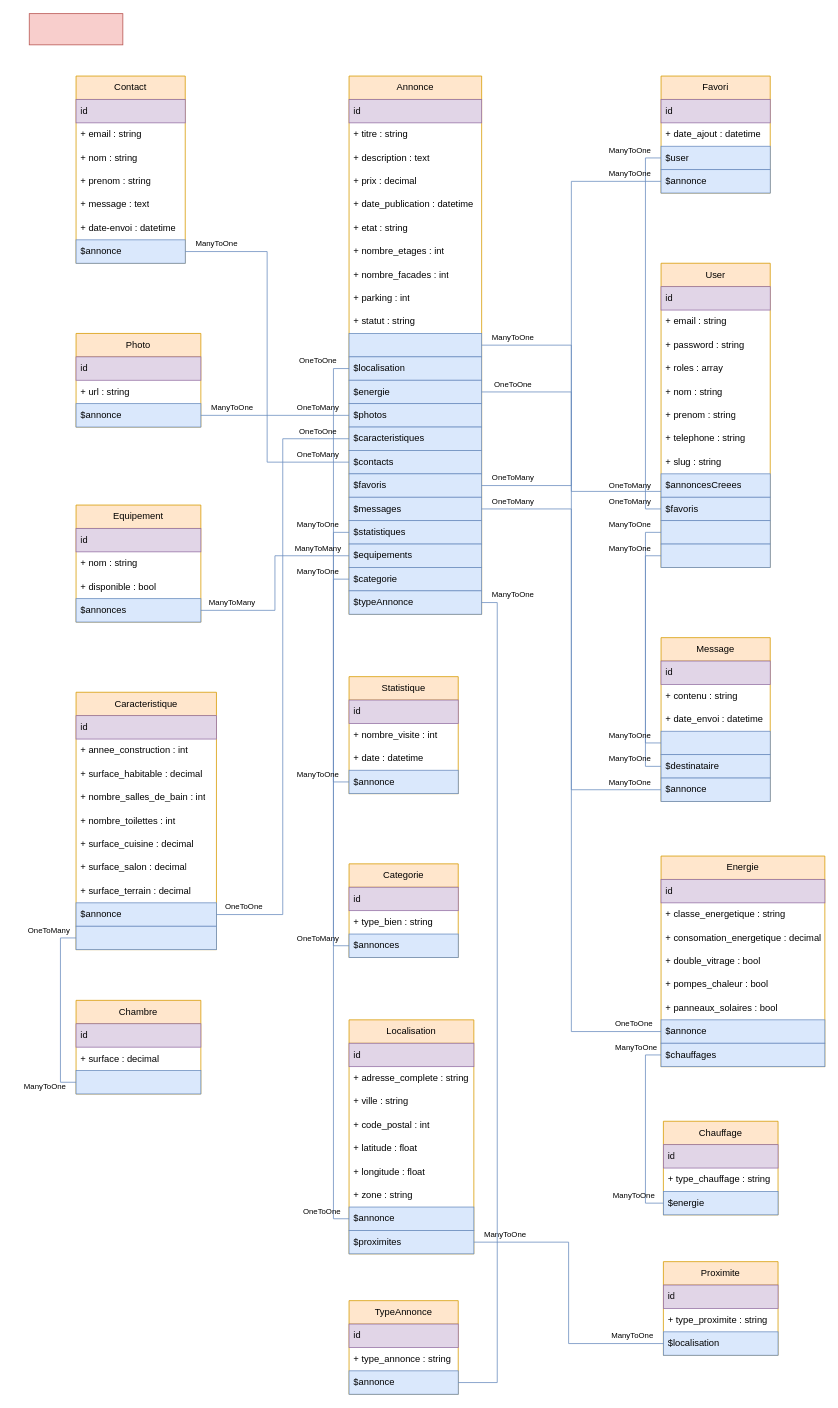
This 838x1408 diagram has some shape labels left out. Here are the shapes that lost their labels. From the top down, the centre of each, then its label:
the point at 75,29: ENTITES
the point at 415,345: $createur
the point at 715,532: $messagesEnvoyes
the point at 715,555: $messageRecus
the point at 715,742: $expediteur
the point at 145,937: $chambre
the point at 138,1082: $caracteristique
